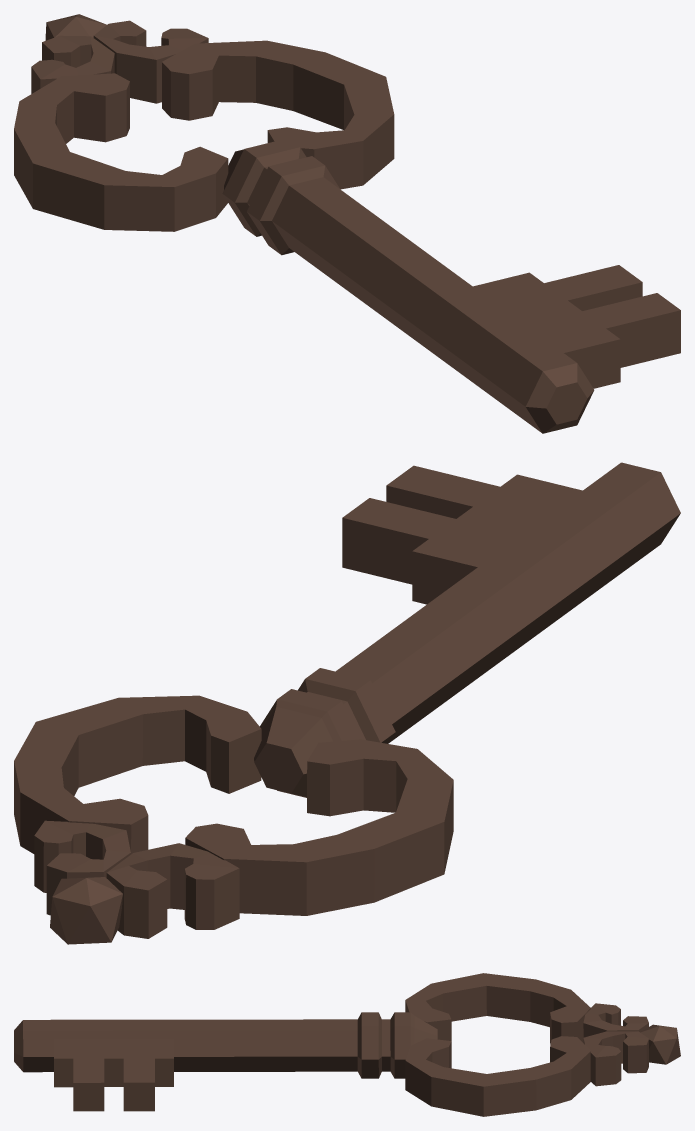
File: key.glb
The picture shows the model from 3 angles, top to bottom: view 1: azimuth 30°, elevation 25°; view 2: azimuth 150°, elevation 25°; view 3: azimuth 270°, elevation 25°; orthographic projection. The views are drawn at different scales.
Visible parts, largest first — view 1: Key2_Cube.007; view 2: Key2_Cube.007; view 3: Key2_Cube.007.
Boxes of the visible parts, <box> form: Key2_Cube.007: <box>14,14,680,433</box>; Key2_Cube.007: <box>14,462,680,944</box>; Key2_Cube.007: <box>14,973,680,1116</box>.
Bounding box in the file's own units: 0.401 × 0.0859 × 0.9928.
